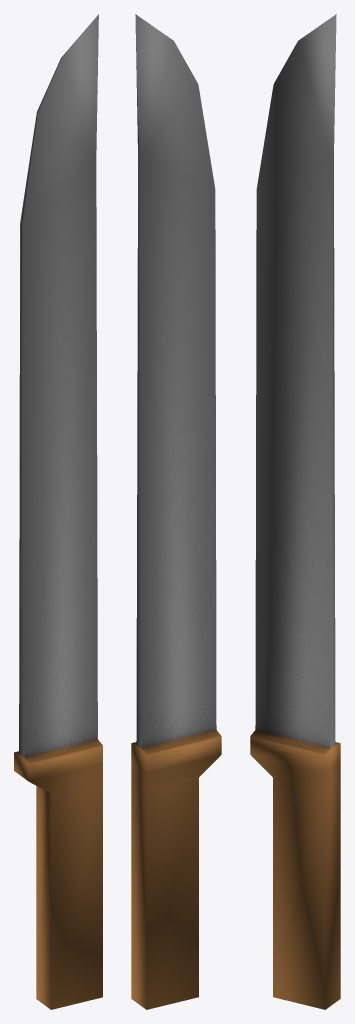
Rendered from Machete.glb.
3 views of the same model, side by side, from view 1: azimuth 30°, elevation 25°; view 2: azimuth 210°, elevation 25°; view 3: azimuth 330°, elevation 25° (orthographic).
Visible parts, largest first — view 1: Machete; view 2: Machete; view 3: Machete.
Part boxes in pixels (x1,y1,x2,y2): Machete: [14, 14, 102, 1009]; Machete: [131, 14, 221, 1009]; Machete: [250, 14, 340, 1009].
Bounding box in the file's own units: 2.99 × 36.11 × 1.
Materials: 1 (1 with a texture image).
